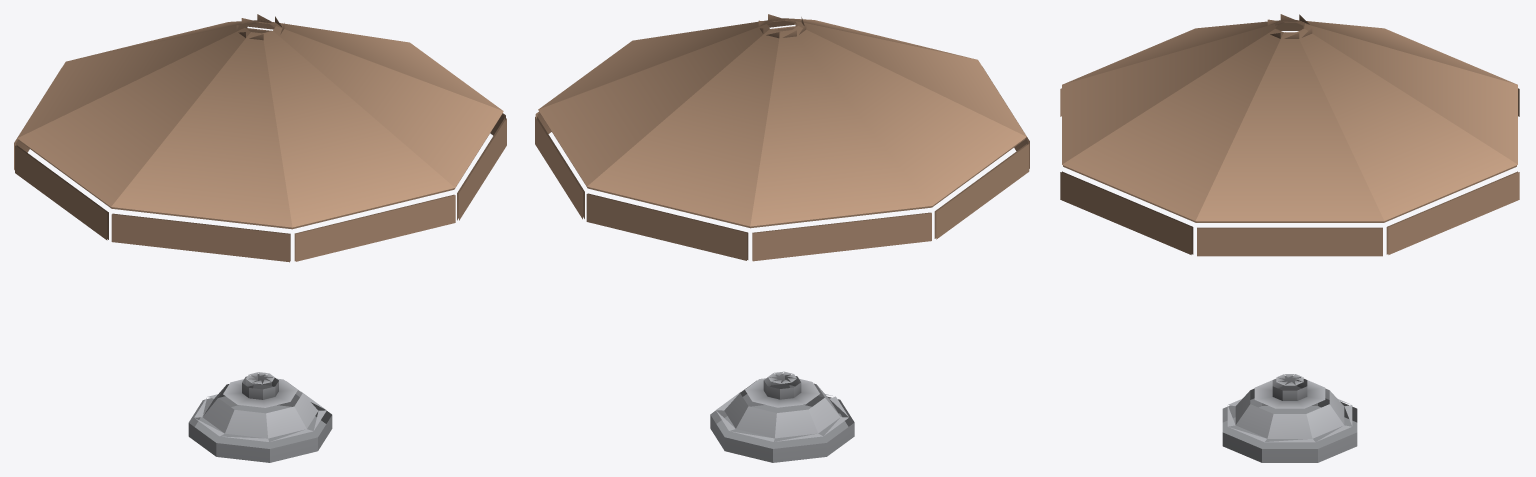
The model's file is parasol.lod.glb.
3 renders of one model, left to right at view 1: azimuth 30°, elevation 25°; view 2: azimuth 150°, elevation 25°; view 3: azimuth 270°, elevation 25°, orthographic.
Visible parts, largest first — view 1: parasol; view 2: parasol; view 3: parasol.
Part boxes in pixels (<box>): parasol: <box>14,14,506,462</box>; parasol: <box>535,14,1029,462</box>; parasol: <box>1060,14,1519,462</box>.
Bounding box in the file's own units: 2.7 × 2.64 × 2.7.
